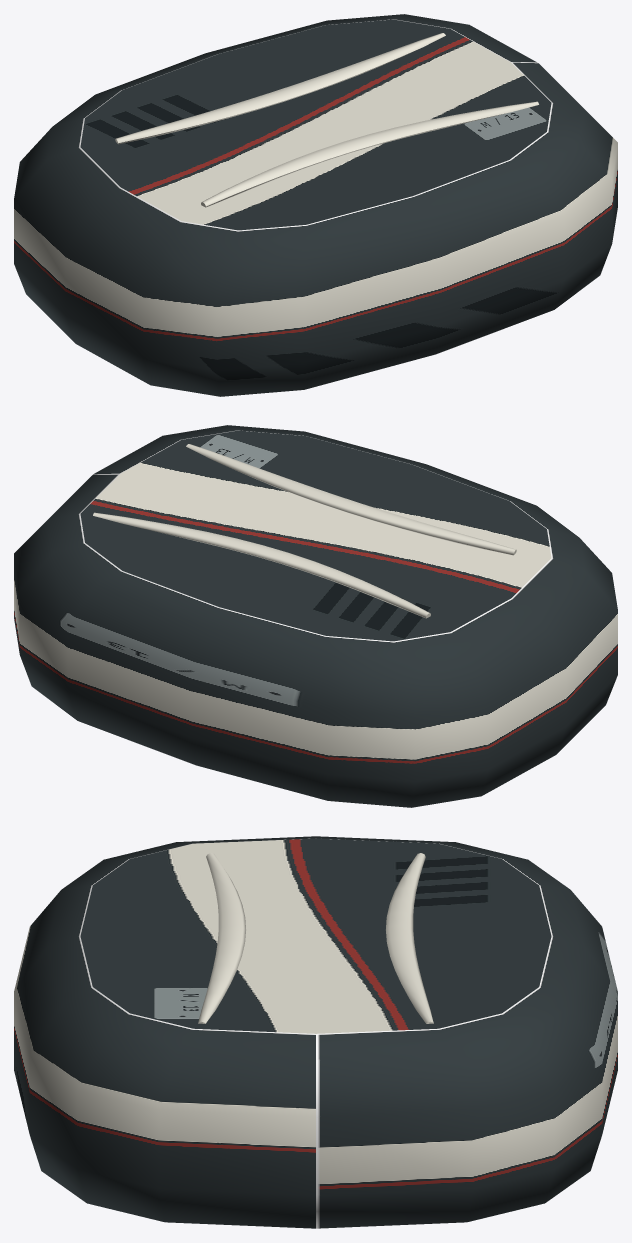
The model's file is MotorCowl_13_R_黒潮・片流れ.glb.
3 views of the same model, one above another, from view 1: azimuth 30°, elevation 25°; view 2: azimuth 150°, elevation 25°; view 3: azimuth 270°, elevation 25° (orthographic). The views are drawn at different scales.
Visible parts, largest first — view 1: MotorCowl_13_R; view 2: MotorCowl_13_R; view 3: MotorCowl_13_R.
Part boxes in pixels (box(x1,y1,x2,y2)): MotorCowl_13_R: box(14, 14, 617, 396); MotorCowl_13_R: box(14, 425, 617, 807); MotorCowl_13_R: box(14, 836, 617, 1228).
Bounding box in the file's own units: 0.332 × 0.1189 × 0.286.
1 material, 1 textured.
